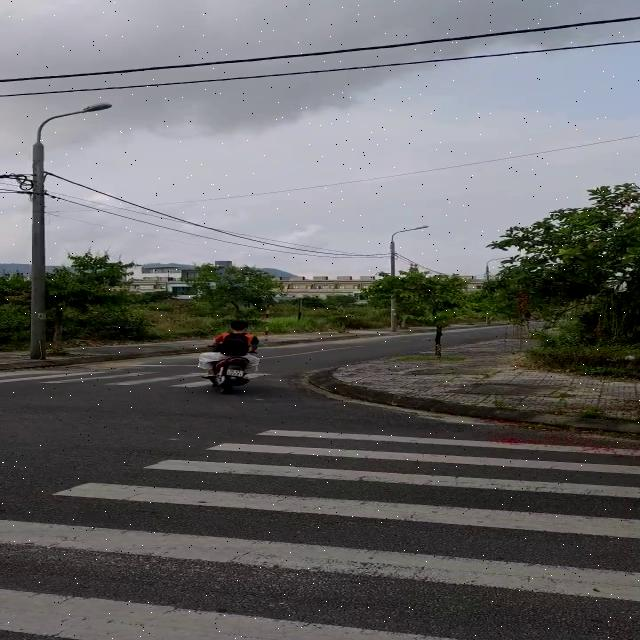no_helmet: (228, 318, 250, 336)
